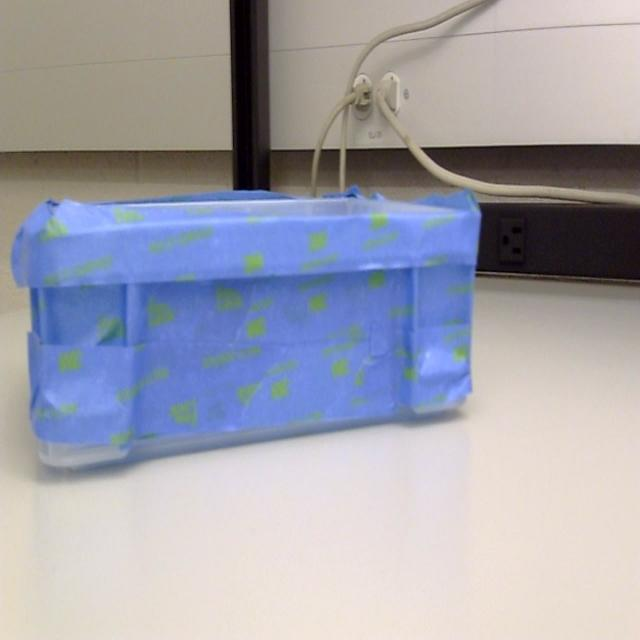bucket: (8, 190, 481, 475)
